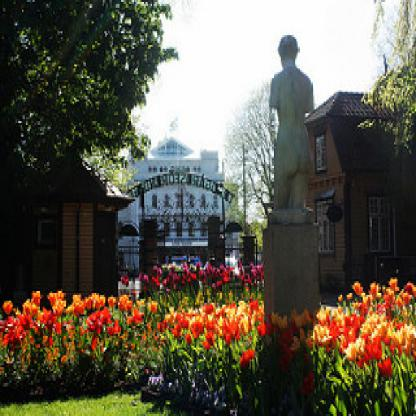TULIP: (16, 230, 411, 407)
